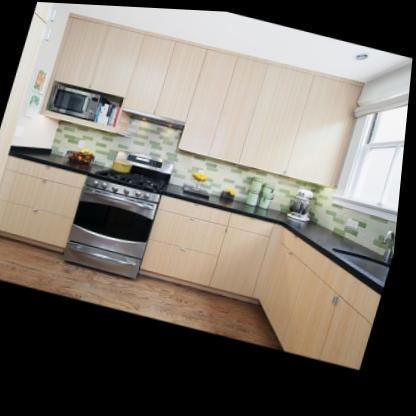Cabinet: (131, 191, 402, 364), (175, 38, 369, 191), (43, 10, 206, 126), (0, 152, 93, 251)
